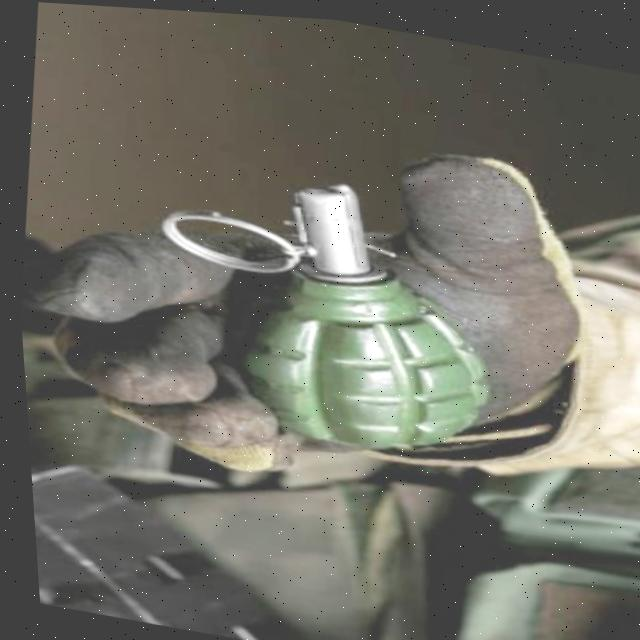grenade: (118, 134, 530, 491)
